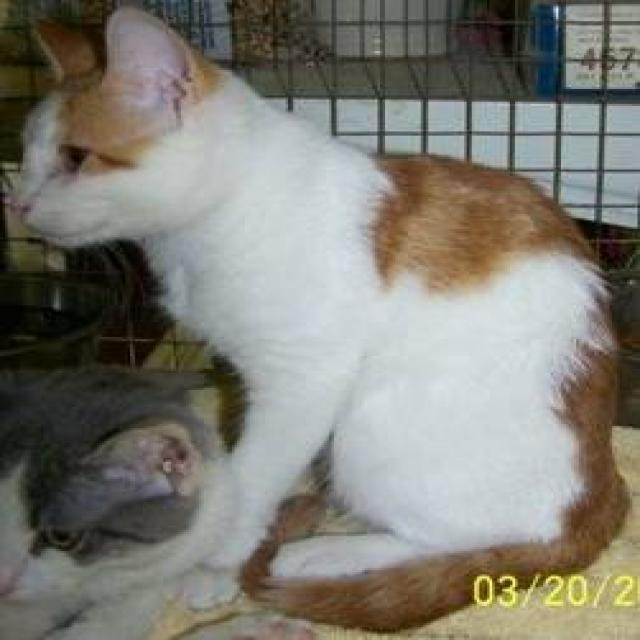cat: (0, 4, 630, 634)
